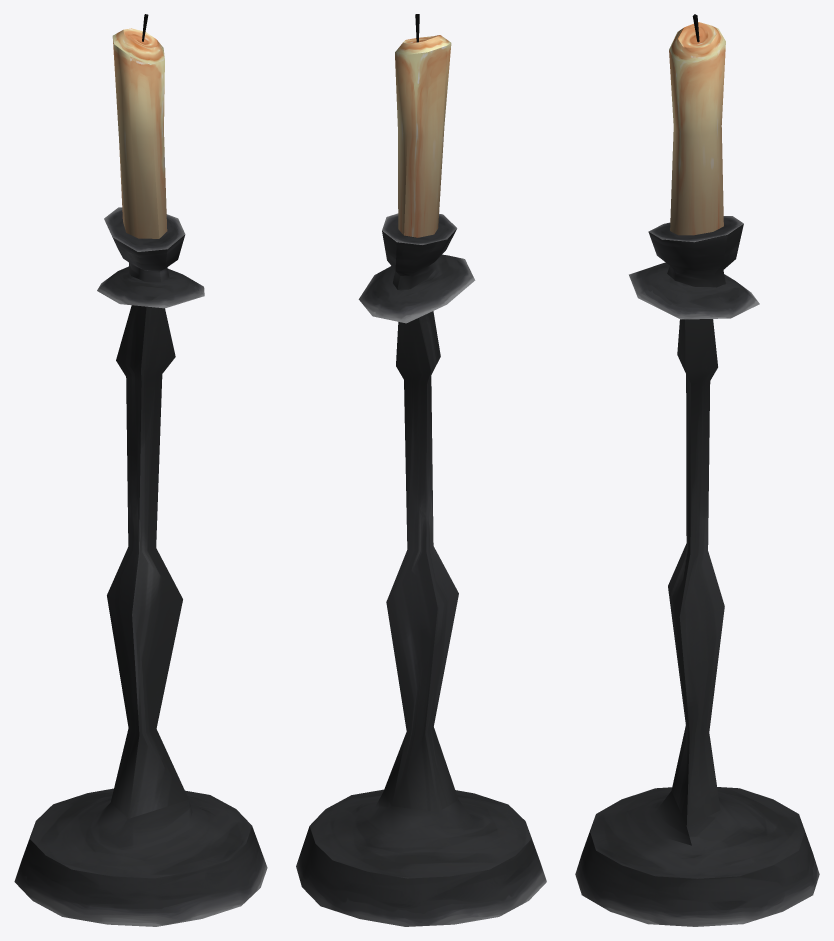
The model's file is SM_PROP_candle_dungeon_05.fbx.
3 renders of one model, left to right at view 1: azimuth 30°, elevation 25°; view 2: azimuth 150°, elevation 25°; view 3: azimuth 270°, elevation 25°, orthographic.
Parts seen in each view (by area): view 1: SM_PROP_candle_dungeon_05; view 2: SM_PROP_candle_dungeon_05; view 3: SM_PROP_candle_dungeon_05.
Part boxes in pixels (<box>): SM_PROP_candle_dungeon_05: <box>14,14,267,926</box>; SM_PROP_candle_dungeon_05: <box>296,14,546,926</box>; SM_PROP_candle_dungeon_05: <box>575,14,819,926</box>.
Size of the model in its own units: 20.81 by 79.14 by 20.35.
